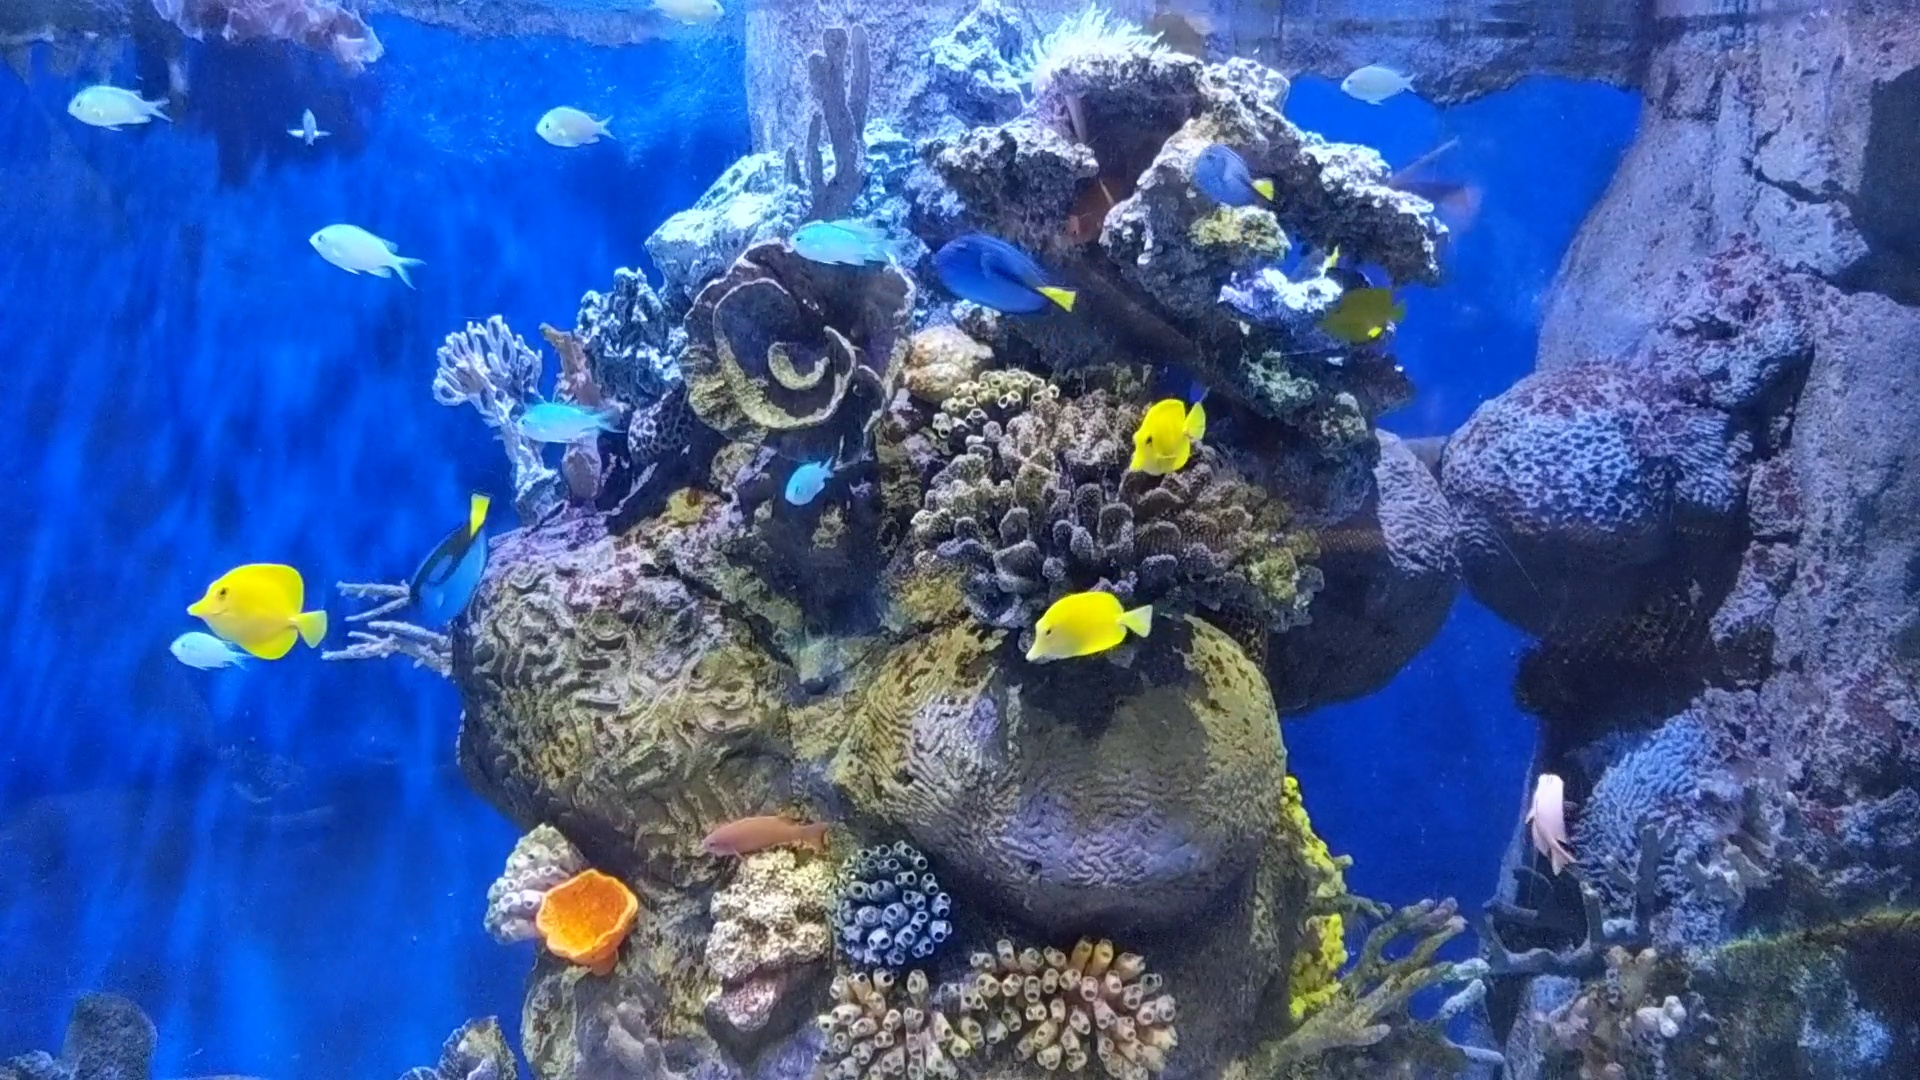blue tang surgeonfish: (923, 229, 1077, 328), (390, 506, 500, 620), (1185, 146, 1286, 214)
damselfish: (294, 199, 438, 302), (61, 57, 170, 142), (775, 219, 887, 265), (520, 388, 611, 444), (530, 91, 612, 149), (156, 626, 264, 670), (1335, 53, 1422, 105), (771, 454, 845, 510), (280, 105, 326, 149)
pink fish: (1520, 762, 1586, 877)
saddle butterfly fish: (175, 541, 334, 676), (1017, 566, 1168, 658), (1113, 384, 1209, 487)
